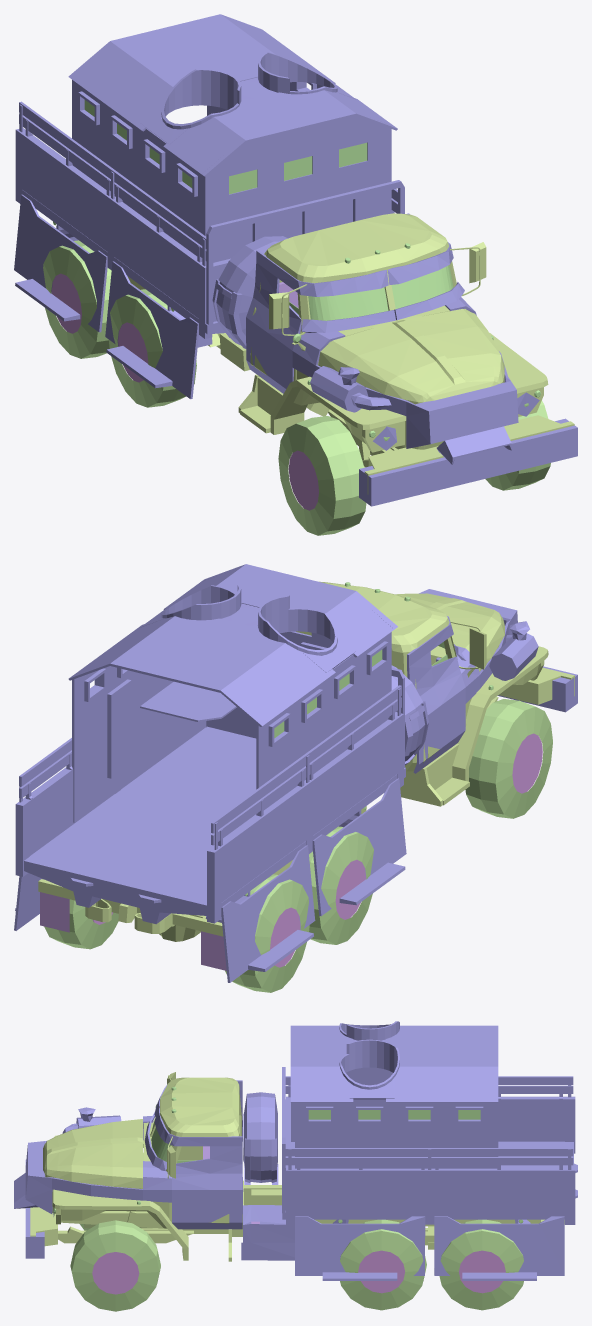
The model's file is land-wheeled-ural--whl-07-armouredbattle.glb.
The picture shows the model from 3 angles, top to bottom: view 1: azimuth 30°, elevation 25°; view 2: azimuth 150°, elevation 25°; view 3: azimuth 270°, elevation 25°; orthographic projection. The views are drawn at different scales.
Parts seen in each view (by area): view 1: SM_WHL_07_Transport_Armored_CC, SM_WHL_07_Battle_Armor_CC, CC_WHL_07_Cab, CC_WHL_07_Flatbed, CC_WHL_07_Wheel_1, CC_WHL_07_Battle_Roof, CC_WHL_07_Wheel_3, CC_WHL_07_Wheel_5, CC_WHL_07_Wheel_0; view 2: CC_WHL_07_Flatbed, SM_WHL_07_Transport_Armored_CC, SM_WHL_07_Battle_Armor_CC, CC_WHL_07_Cab, CC_WHL_07_Battle_Roof, CC_WHL_07_Wheel_1, CC_WHL_07_Wheel_5, CC_WHL_07_Wheel_3, CC_WHL_07_Wheel_2; view 3: CC_WHL_07_Flatbed, SM_WHL_07_Battle_Armor_CC, SM_WHL_07_Transport_Armored_CC, CC_WHL_07_Cab, CC_WHL_07_Wheel_0, CC_WHL_07_Wheel_4, CC_WHL_07_Wheel_2, CC_WHL_07_Battle_Roof, CC_WHL_07_Interior.
Boxes of the visible parts, <box> form: SM_WHL_07_Transport_Armored_CC: <box>68,14,397,262</box>; SM_WHL_07_Battle_Armor_CC: <box>14,194,577,506</box>; CC_WHL_07_Cab: <box>53,213,574,494</box>; CC_WHL_07_Flatbed: <box>15,101,404,348</box>; CC_WHL_07_Wheel_1: <box>278,416,366,535</box>; CC_WHL_07_Battle_Roof: <box>140,52,355,144</box>; CC_WHL_07_Wheel_3: <box>43,240,111,358</box>; CC_WHL_07_Wheel_5: <box>108,289,196,407</box>; CC_WHL_07_Wheel_0: <box>485,400,550,490</box>; CC_WHL_07_Flatbed: <box>15,665,428,924</box>; SM_WHL_07_Transport_Armored_CC: <box>68,564,397,822</box>; SM_WHL_07_Battle_Armor_CC: <box>14,589,577,982</box>; CC_WHL_07_Cab: <box>38,581,574,970</box>; CC_WHL_07_Battle_Roof: <box>140,583,355,721</box>; CC_WHL_07_Wheel_1: <box>465,699,552,818</box>; CC_WHL_07_Wheel_5: <box>309,826,373,944</box>; CC_WHL_07_Wheel_3: <box>225,874,309,992</box>; CC_WHL_07_Wheel_2: <box>44,899,118,949</box>; CC_WHL_07_Flatbed: <box>243,1067,577,1224</box>; SM_WHL_07_Battle_Armor_CC: <box>14,1080,564,1280</box>; SM_WHL_07_Transport_Armored_CC: <box>290,1025,498,1168</box>; CC_WHL_07_Cab: <box>30,1072,564,1261</box>; CC_WHL_07_Wheel_0: <box>70,1220,160,1311</box>; CC_WHL_07_Wheel_4: <box>340,1219,426,1310</box>; CC_WHL_07_Wheel_2: <box>439,1219,523,1310</box>; CC_WHL_07_Battle_Roof: <box>339,1021,399,1099</box>; CC_WHL_07_Interior: <box>178,1146,209,1160</box>.
Size of the model in its own units: 3.41 by 4.06 by 8.72.
